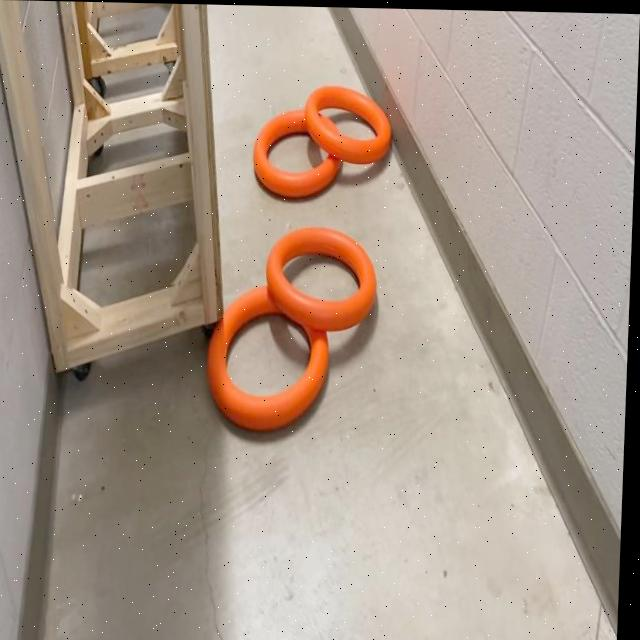note: (206, 283, 335, 437), (266, 222, 385, 329), (252, 106, 341, 196), (303, 83, 396, 162)
